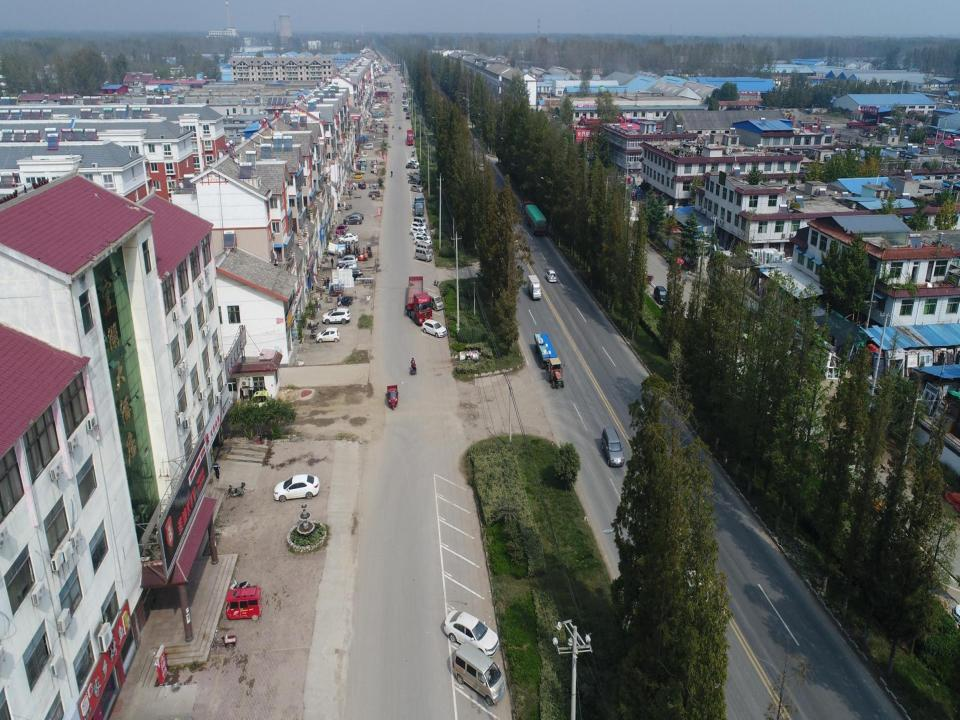car: (442, 606, 500, 656), (270, 474, 320, 502), (602, 424, 625, 468), (421, 318, 447, 338), (316, 326, 341, 345), (320, 309, 351, 324), (336, 254, 358, 270), (653, 284, 669, 304), (342, 267, 364, 281), (338, 261, 360, 274), (414, 235, 433, 249), (412, 231, 432, 244), (338, 232, 358, 244), (344, 211, 364, 223), (343, 214, 362, 226), (544, 268, 557, 284), (409, 226, 425, 238), (411, 221, 426, 233), (410, 184, 423, 193), (408, 177, 422, 185), (407, 158, 417, 164), (376, 116, 383, 122), (375, 102, 381, 108), (375, 121, 382, 125), (390, 110, 394, 116), (403, 103, 408, 107)
truck: (406, 274, 432, 324), (521, 199, 547, 236), (528, 271, 542, 303), (412, 193, 425, 216), (354, 134, 368, 144), (406, 130, 414, 145), (408, 170, 421, 178), (405, 111, 410, 119)
van: (452, 641, 508, 708), (424, 291, 444, 312), (413, 246, 433, 264), (416, 241, 434, 257), (414, 216, 428, 228), (356, 159, 367, 168), (362, 143, 374, 150), (410, 159, 420, 166), (372, 105, 380, 109)
